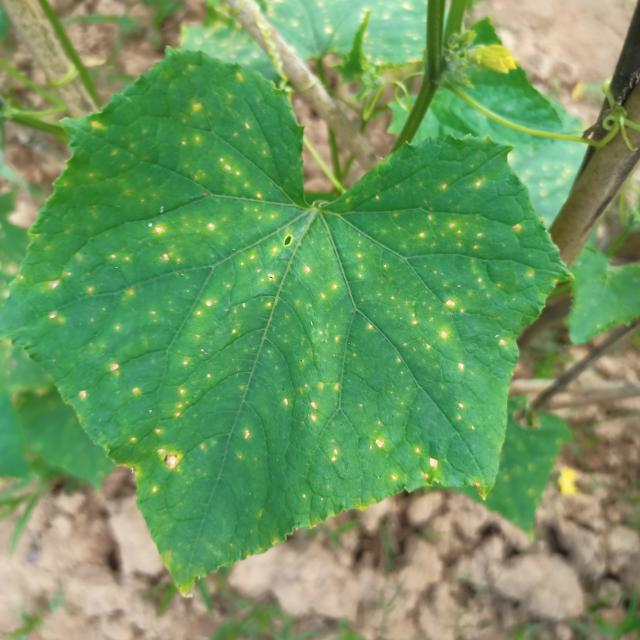disease_cucumber: (52, 78, 508, 535)
